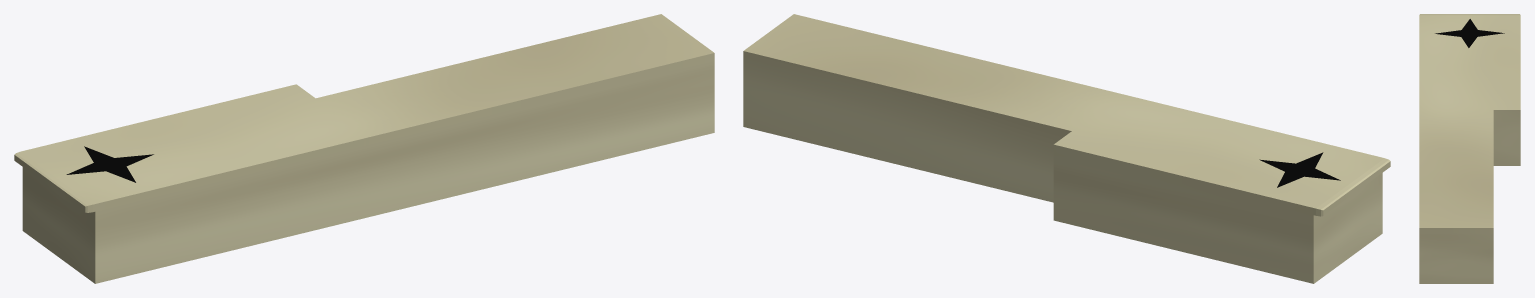
File: B_key.obj
3 renders of one model, left to right at view 1: azimuth 30°, elevation 25°; view 2: azimuth 150°, elevation 25°; view 3: azimuth 270°, elevation 25°, orthographic. The views are drawn at different scales.
Visible parts, largest first — view 1: B_key; view 2: B_key; view 3: B_key.
Boxes of the visible parts, x1,y1,x2,y2 form: B_key: (14, 14, 714, 283); B_key: (743, 14, 1390, 283); B_key: (1419, 14, 1520, 283).
Size of what is drawn, in the model's own units: 17.27 by 2.12 by 3.45.
Materials: 2 (2 with a texture image).
